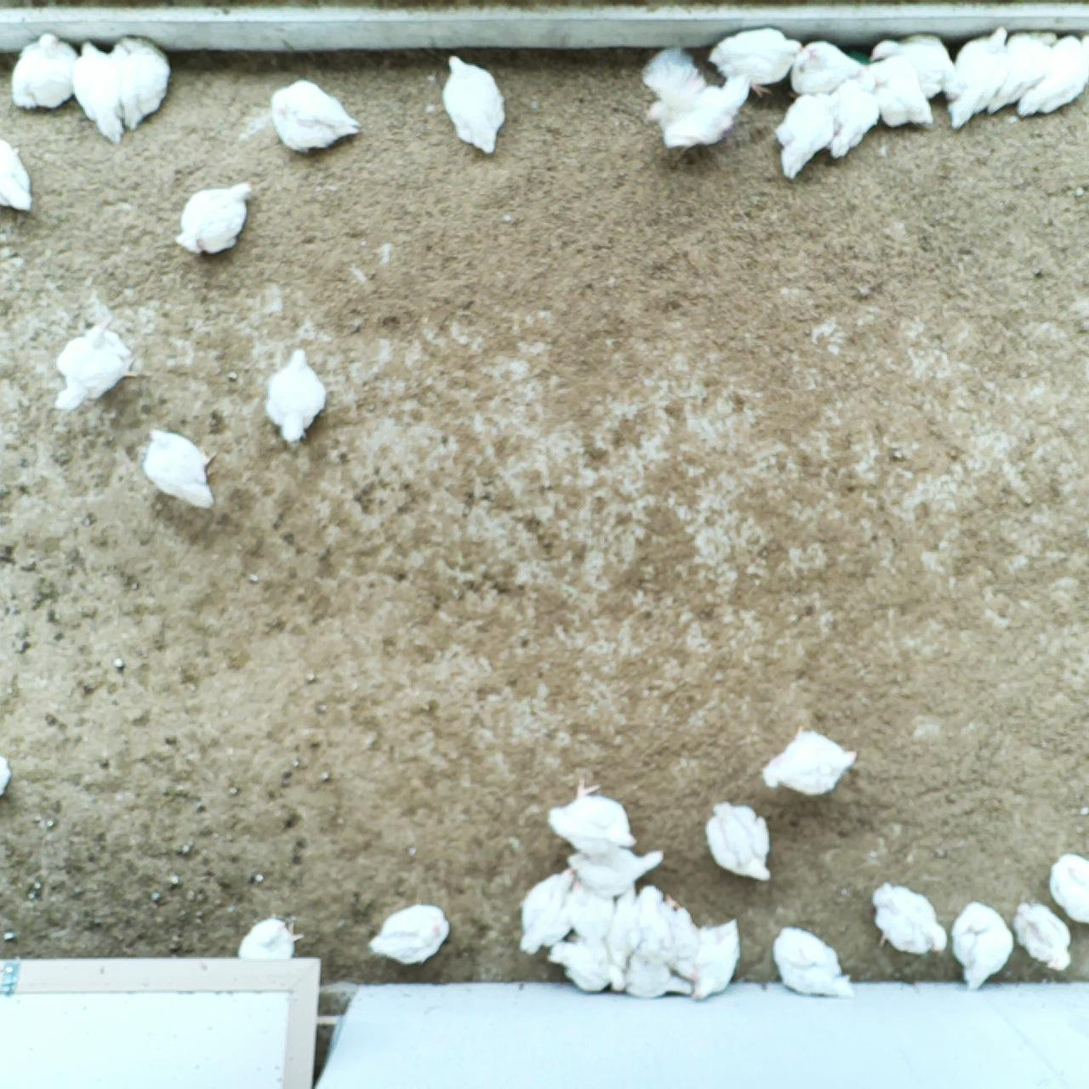chicken: (641, 46, 754, 156), (43, 312, 139, 414), (265, 76, 361, 158), (945, 23, 1017, 131), (546, 775, 640, 856), (762, 725, 862, 800), (983, 24, 1058, 121), (439, 55, 513, 153), (865, 877, 955, 955), (767, 920, 855, 999), (136, 426, 215, 512), (1013, 33, 1089, 120), (711, 29, 809, 96), (266, 344, 329, 447), (172, 175, 253, 255), (865, 30, 959, 98), (71, 38, 130, 145), (112, 30, 175, 130), (775, 85, 837, 184), (857, 55, 939, 127), (677, 913, 747, 996), (827, 65, 884, 164), (951, 903, 1013, 994), (708, 796, 774, 880), (10, 29, 78, 110), (517, 870, 579, 958), (628, 885, 701, 958), (565, 843, 671, 893), (369, 903, 447, 968), (539, 935, 626, 992), (612, 940, 693, 999), (787, 40, 868, 96), (1014, 898, 1074, 973), (564, 874, 619, 951), (601, 886, 643, 968), (235, 911, 304, 959), (0, 128, 36, 219), (1045, 852, 1089, 924)
